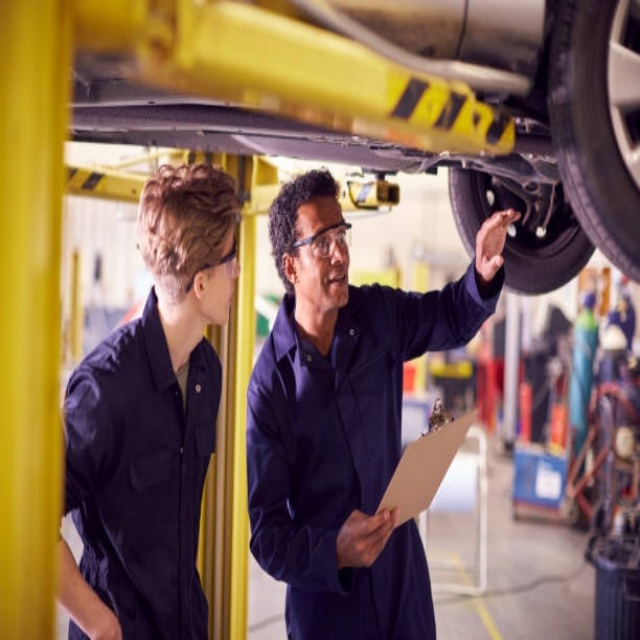Gafas: (185, 231, 239, 291), (291, 221, 351, 257)
Sin_guantes: (338, 497, 401, 569), (473, 201, 527, 281)
Sin_mascara: (210, 279, 236, 325), (319, 265, 353, 293)
